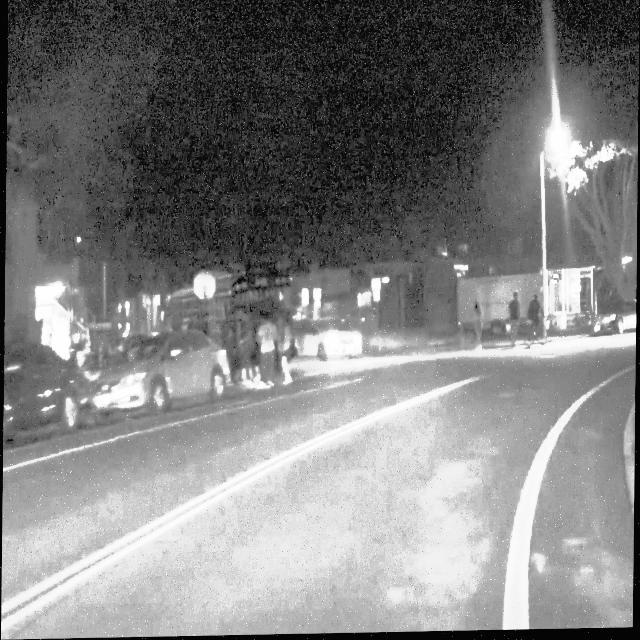Car: (95, 322, 229, 415), (0, 343, 90, 435)
Truck: (458, 274, 544, 340)
